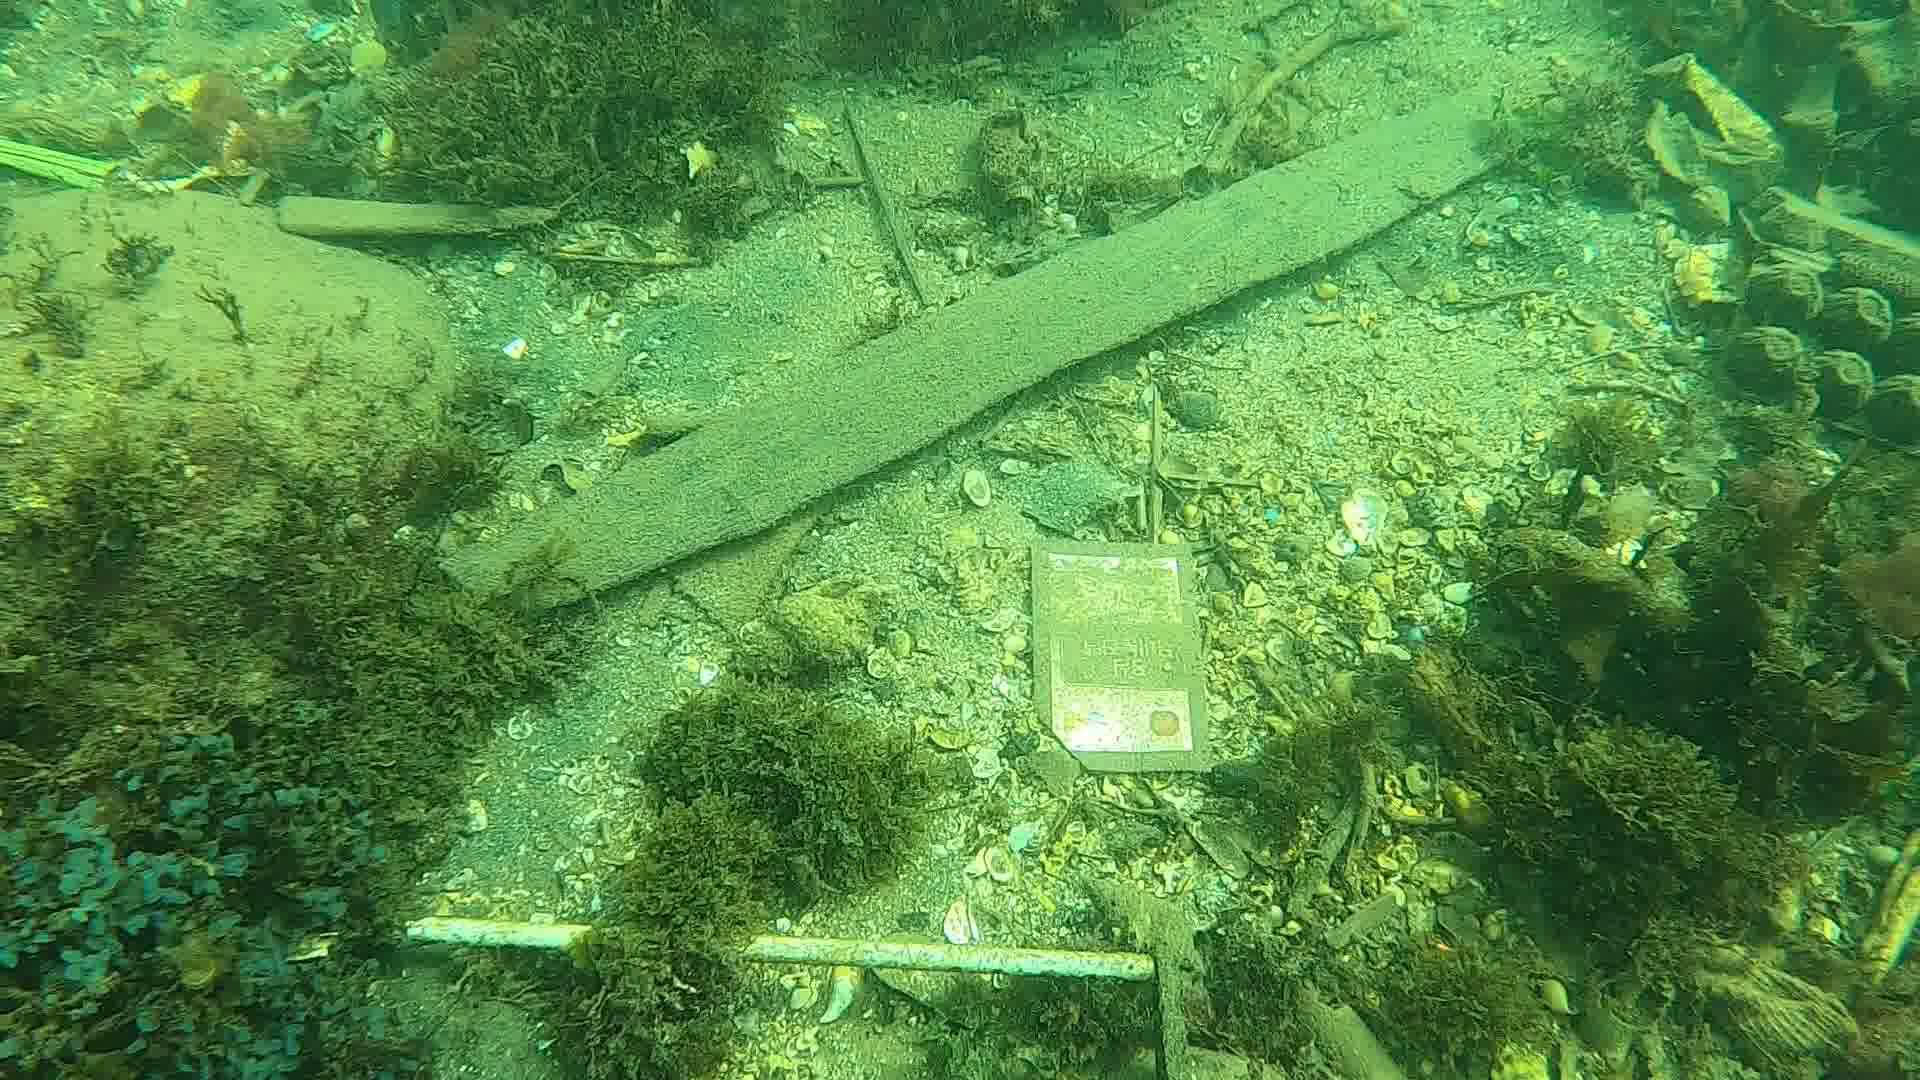wood: (436, 79, 1528, 611), (400, 913, 1158, 982)
